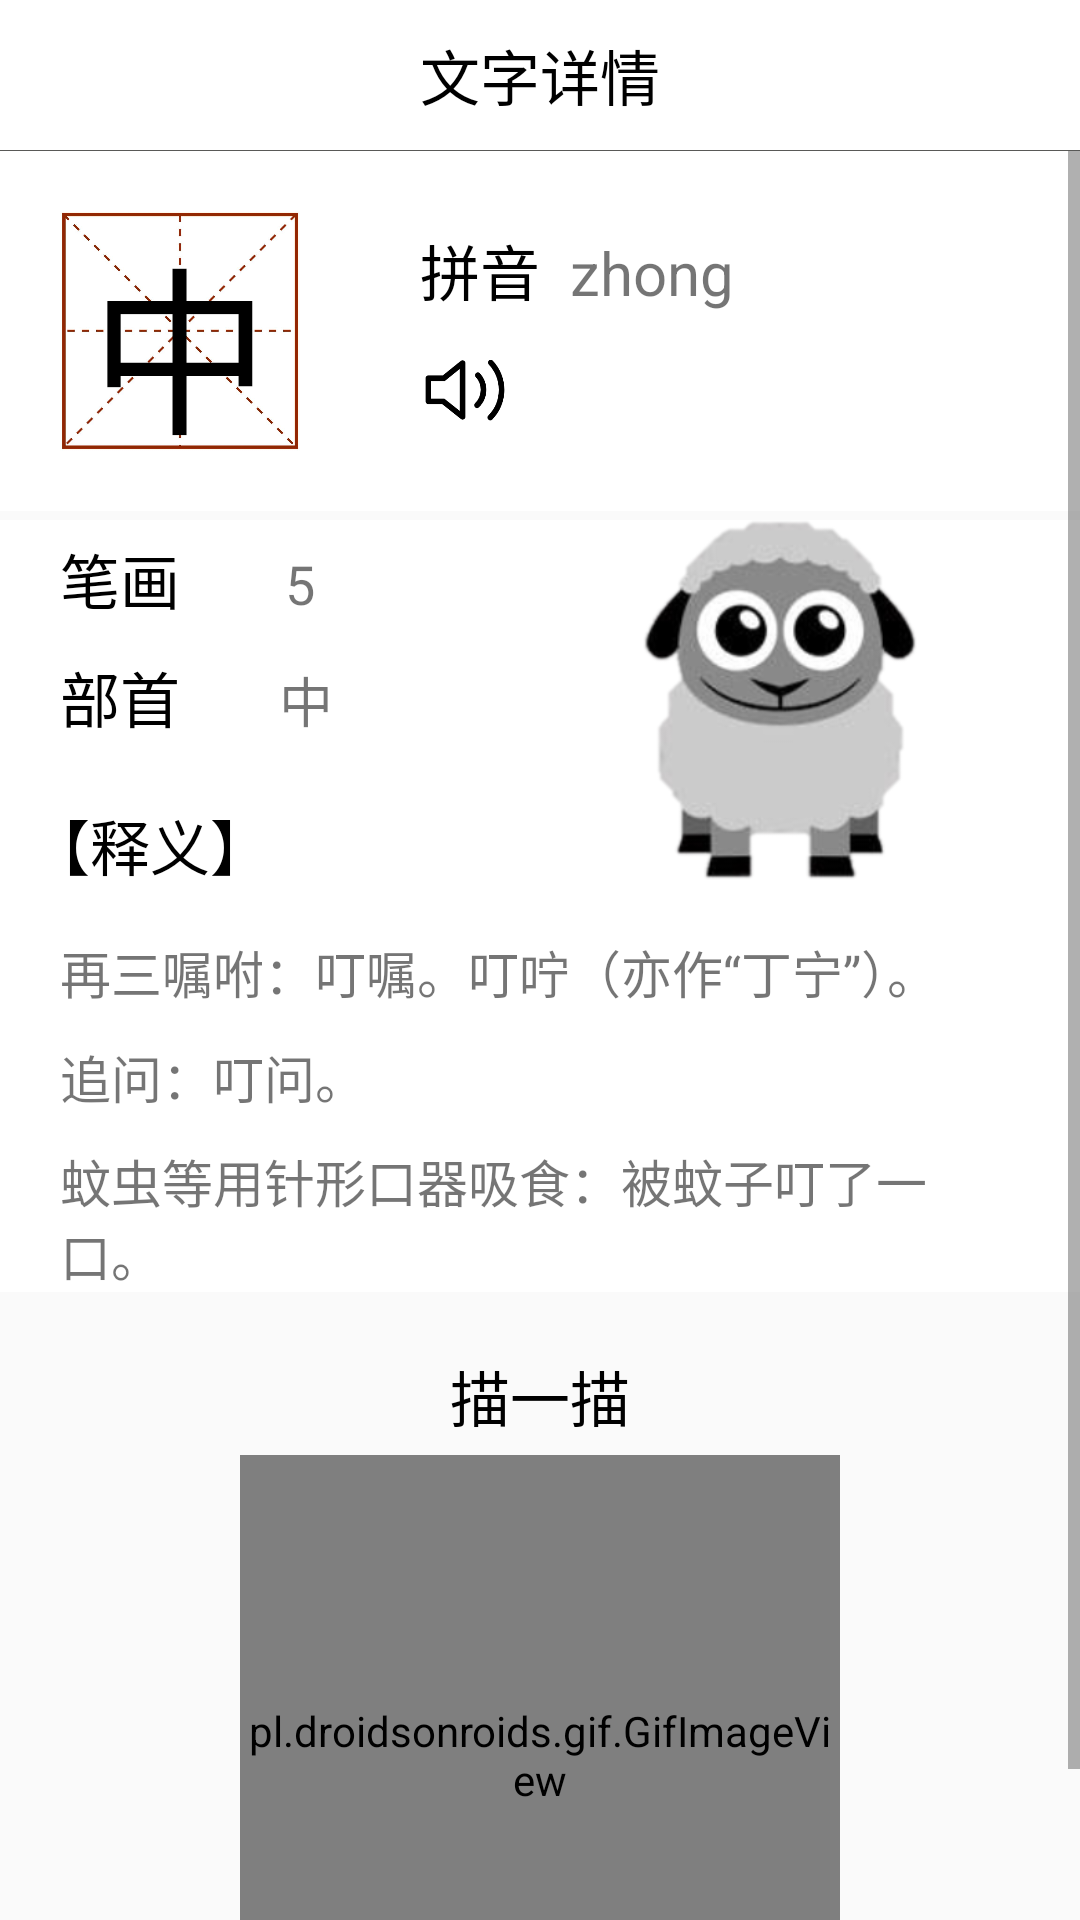

Screen size 1080 x 1920. Icon name, then its box in pixels as (x1, y1, x2, y2):
yuyin: (425, 360, 505, 421)
